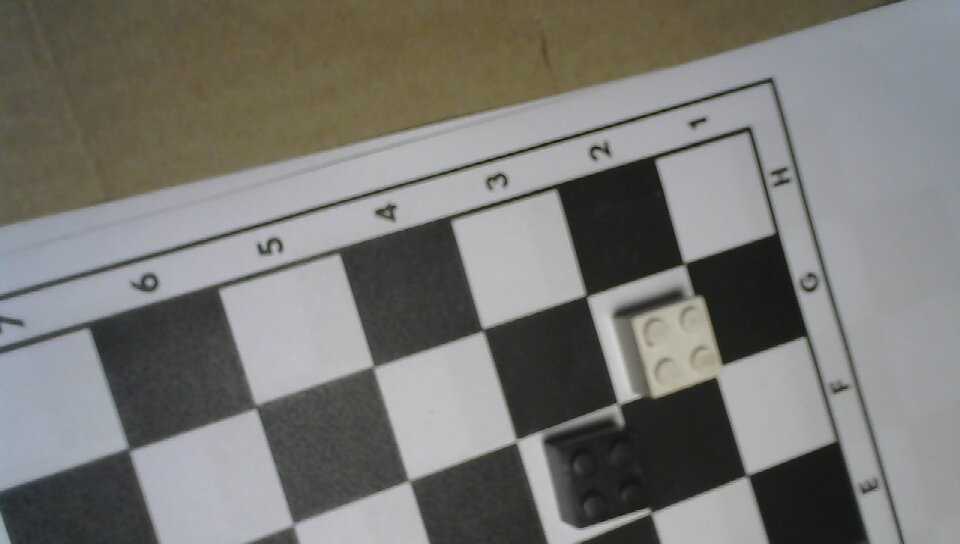wp: (609, 285, 727, 406)
